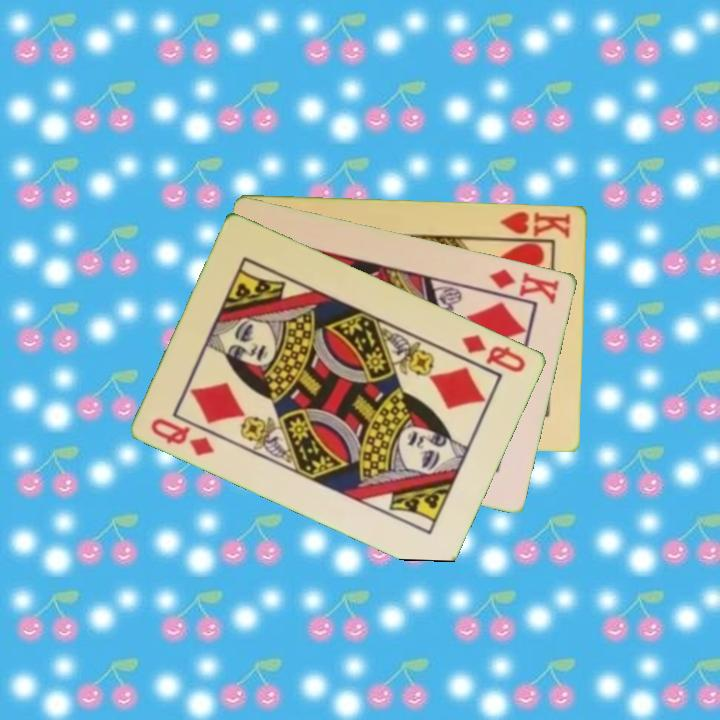Kd: (486, 265, 563, 307)
Kh: (493, 207, 574, 242)
Qd: (458, 330, 530, 376), (148, 414, 219, 459)
